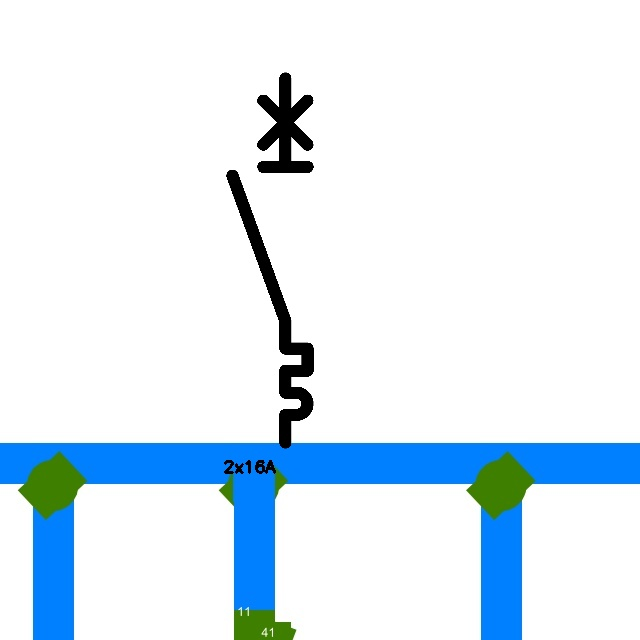interruptor_termomagnetico: (223, 69, 317, 452)
